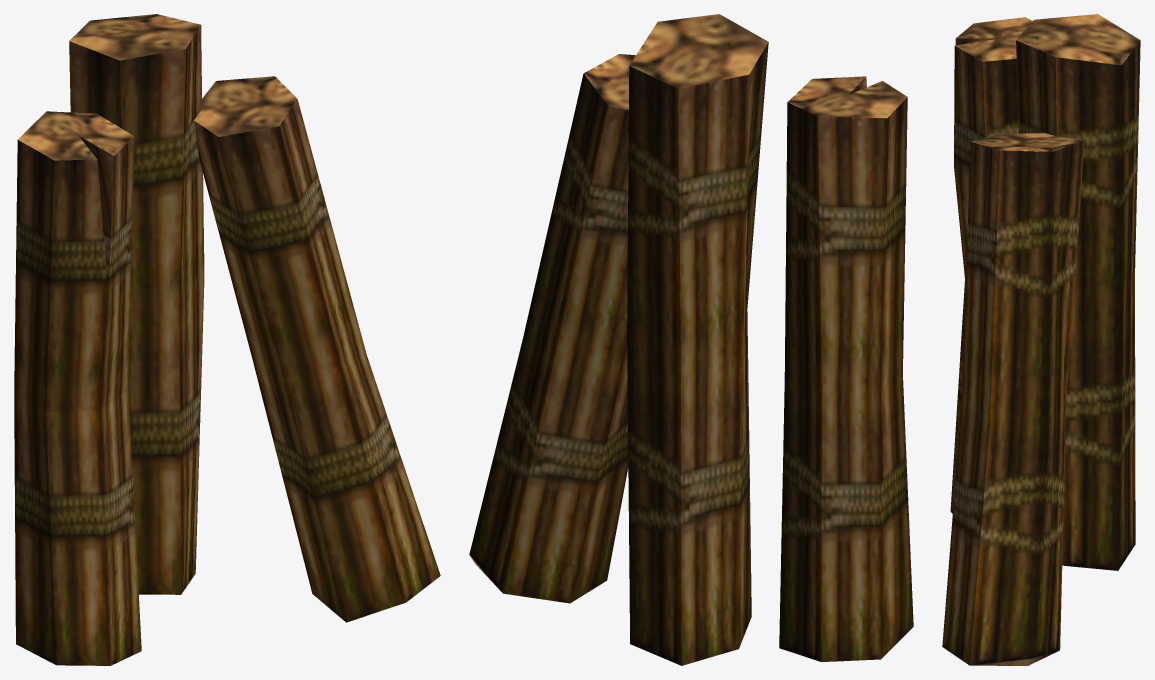
The model's file is cunlou_xiaowujian17.FBX.
3 renders of one model, left to right at view 1: azimuth 30°, elevation 25°; view 2: azimuth 150°, elevation 25°; view 3: azimuth 270°, elevation 25°, orthographic. The views are drawn at different scales.
Visible parts, largest first — view 1: cunlou_xiaowujian17; view 2: cunlou_xiaowujian17; view 3: cunlou_xiaowujian17.
Part boxes in pixels (box(x1,y1,x2,y2)): cunlou_xiaowujian17: box(14, 14, 440, 665); cunlou_xiaowujian17: box(469, 14, 913, 665); cunlou_xiaowujian17: box(942, 14, 1140, 665).
Size of the model in its own units: 152 by 216 by 71.78.
